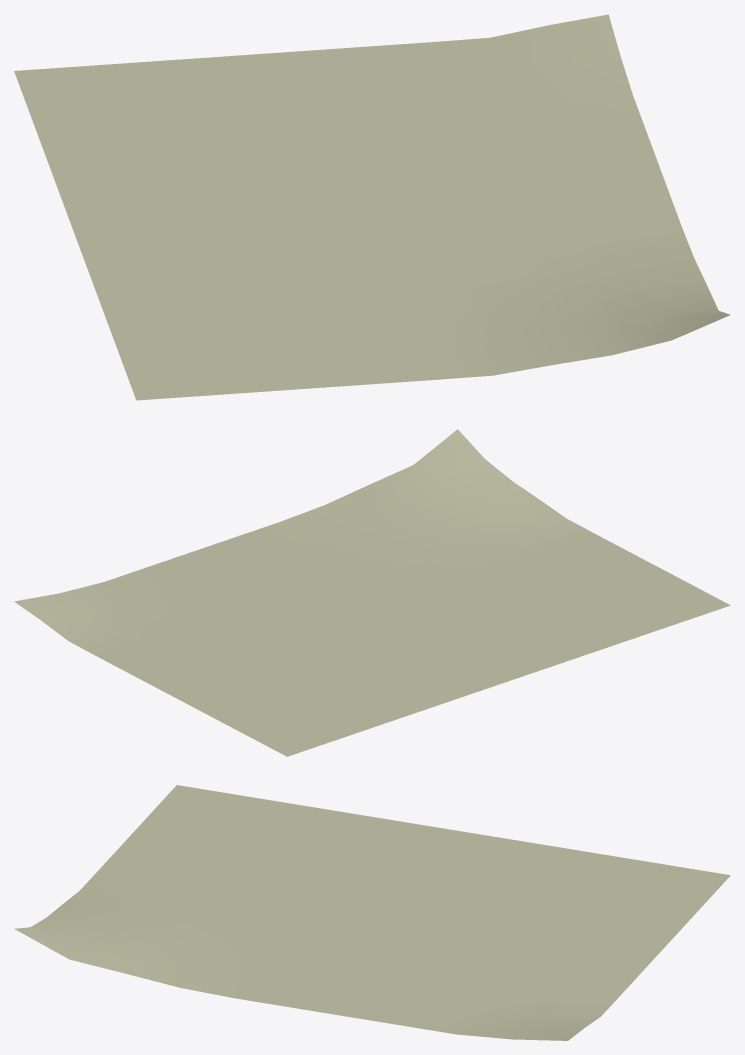
Rendered from Paper 3.fbx.
3 renders of one model, top to bottom at view 1: azimuth 30°, elevation 25°; view 2: azimuth 150°, elevation 25°; view 3: azimuth 270°, elevation 25°, orthographic. The views are drawn at different scales.
Visible parts, largest first — view 1: pPlane8; view 2: pPlane8; view 3: pPlane8.
Boxes of the visible parts, x1=… form: pPlane8: x1=14, y1=14, x2=730, y2=400; pPlane8: x1=14, y1=429, x2=730, y2=756; pPlane8: x1=14, y1=785, x2=730, y2=1040.
Size of the model in its own units: 1.4 by 0.0847 by 1.58.
